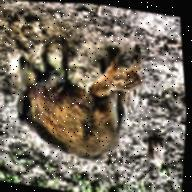boar: (4, 31, 136, 168), (86, 39, 147, 105)
